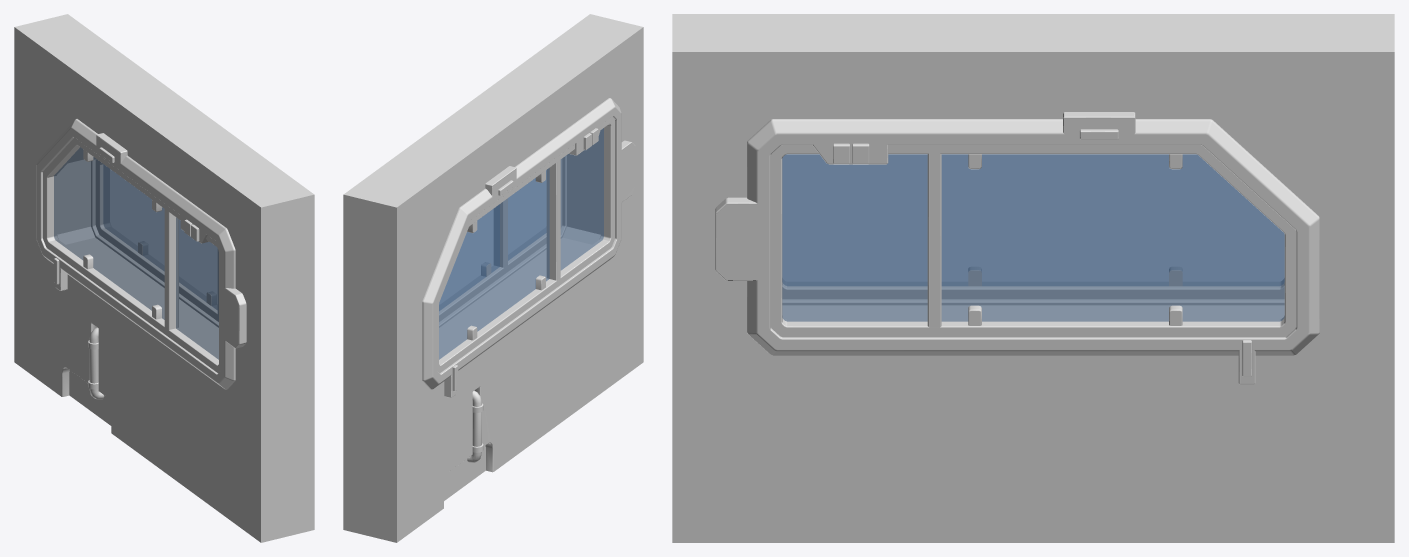
The model's file is Building_04_Wall_03_Left.fbx.
3 renders of one model, left to right at view 1: azimuth 30°, elevation 25°; view 2: azimuth 150°, elevation 25°; view 3: azimuth 270°, elevation 25°, orthographic. The views are drawn at different scales.
Parts seen in each view (by area): view 1: Building_04_Wall_03_Left, Building_04_Wall_03_L_Glass; view 2: Building_04_Wall_03_Left, Building_04_Wall_03_L_Glass; view 3: Building_04_Wall_03_Left, Building_04_Wall_03_L_Glass.
Boxes of the visible parts, box(x1,y1,x2,y2) form: Building_04_Wall_03_Left: box(14, 14, 314, 542); Building_04_Wall_03_L_Glass: box(54, 147, 218, 359); Building_04_Wall_03_Left: box(343, 14, 643, 542); Building_04_Wall_03_L_Glass: box(439, 128, 603, 359); Building_04_Wall_03_Left: box(672, 14, 1394, 542); Building_04_Wall_03_L_Glass: box(782, 154, 1284, 321).
Size of the model in its own units: 0.6861 by 3 by 4.
